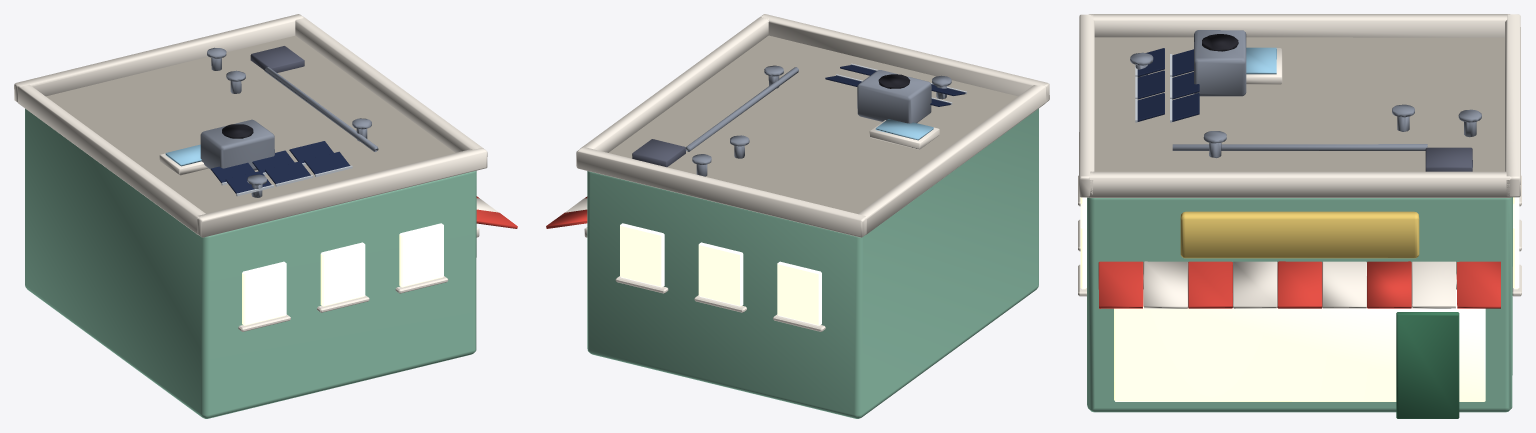
File: shop.glb
3 renders of one model, left to right at view 1: azimuth 30°, elevation 25°; view 2: azimuth 150°, elevation 25°; view 3: azimuth 270°, elevation 25°, orthographic. The views are drawn at different scales.
Parts seen in each view (by area): view 1: shop; view 2: shop; view 3: shop.
Boxes of the visible parts, left/top/right/bottom form: shop: left=14, top=14, right=517, bottom=418; shop: left=546, top=14, right=1049, bottom=418; shop: left=1078, top=14, right=1521, bottom=418.
Size of the model in its own units: 8.27 by 5.55 by 8.34.
Materials: 1 (1 with a texture image).
